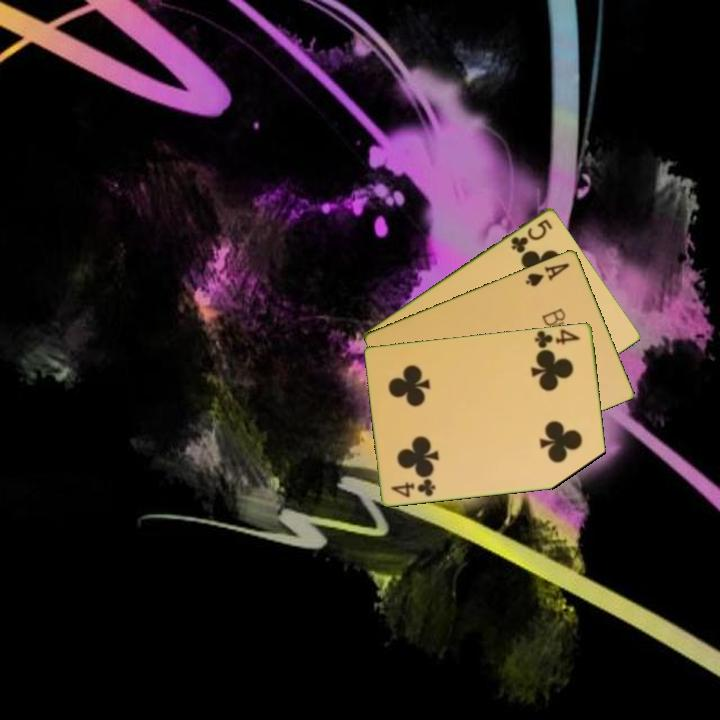4c: (531, 326, 583, 351), (388, 475, 438, 500)
5c: (507, 215, 555, 256)
As: (522, 259, 573, 289)
